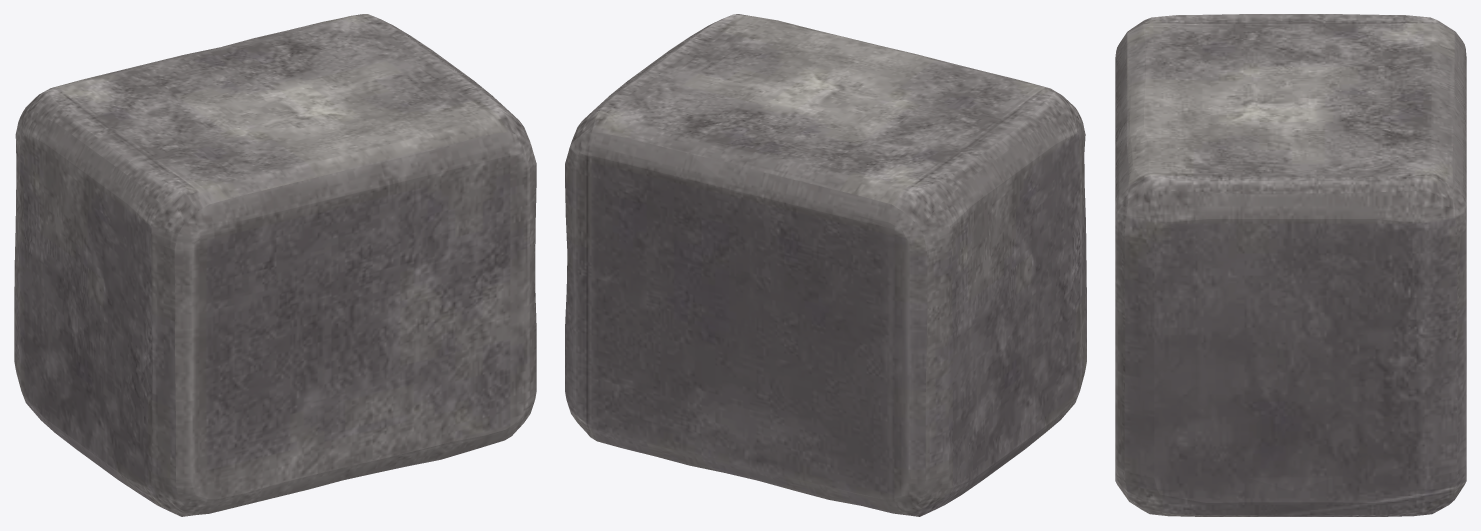
File: brick_stone.glb
3 views of the same model, side by side, from view 1: azimuth 30°, elevation 25°; view 2: azimuth 150°, elevation 25°; view 3: azimuth 270°, elevation 25° (orthographic). The views are drawn at different scales.
Bounding box in the file's own units: 1.9 × 1.56 × 1.48.
1 material, 1 textured.
